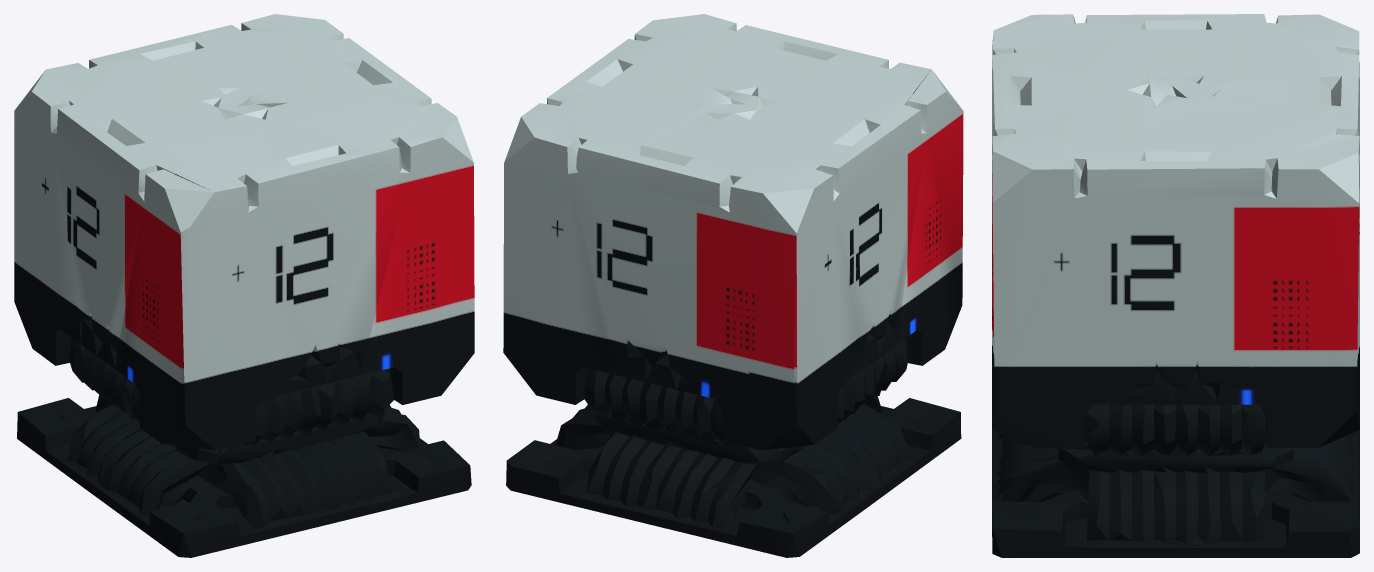
Rendered from pawn-far.glb.
3 views of the same model, side by side, from view 1: azimuth 30°, elevation 25°; view 2: azimuth 150°, elevation 25°; view 3: azimuth 270°, elevation 25° (orthographic). The views are drawn at different scales.
Visible parts, largest first — view 1: pawn; view 2: pawn; view 3: pawn.
Part boxes in pixels (bbox=[...]): pawn: bbox=[14, 14, 474, 557]; pawn: bbox=[503, 14, 963, 557]; pawn: bbox=[992, 14, 1359, 557].
Bounding box in the file's own units: 50.03 × 58.55 × 50.02.
Materials: 1 (1 with a texture image).
